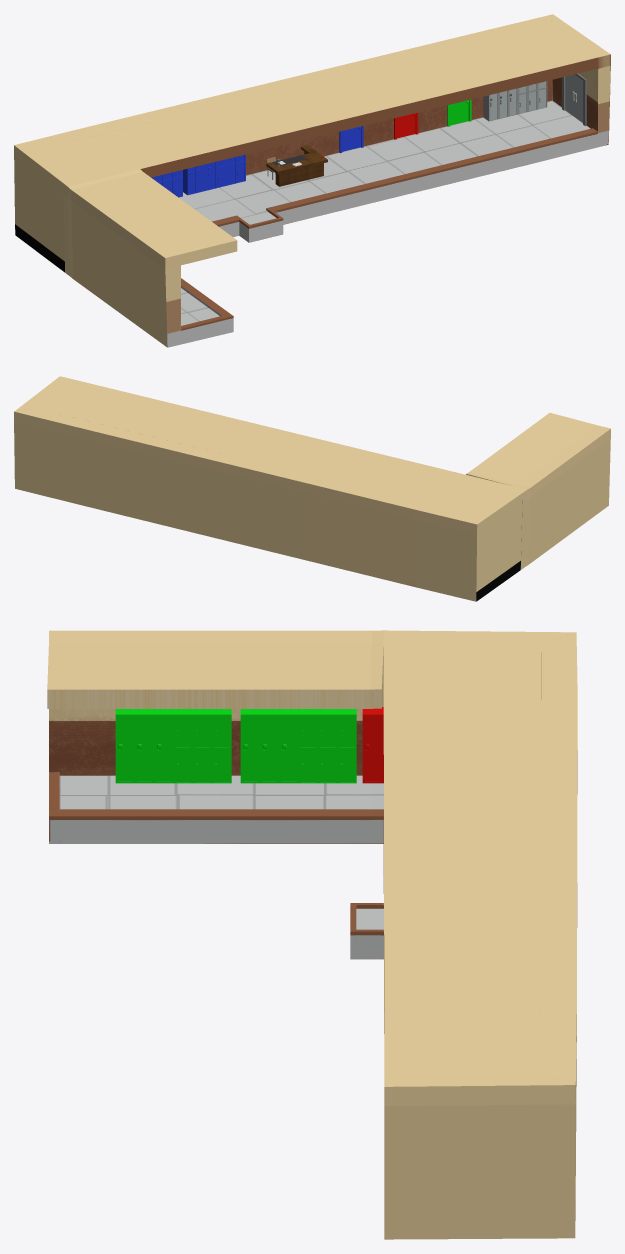
Rendered from Corredor.fbx.
The picture shows the model from 3 angles, top to bottom: view 1: azimuth 30°, elevation 25°; view 2: azimuth 150°, elevation 25°; view 3: azimuth 270°, elevation 25°; orthographic projection. The views are drawn at different scales.
Parts seen in each view (by area): view 1: Corredor, AssetsEscola, AssetsEscola_Azul, AssetsEscola_Verde, AssetsEscola_Vermelho; view 2: Corredor; view 3: Corredor, AssetsEscola_Verde, AssetsEscola_Vermelho.
Part boxes in pixels (x1,y1,x2,y2): Corredor: (14,14,610,347); AssetsEscola: (266,73,586,186); AssetsEscola_Azul: (151,126,363,197); AssetsEscola_Verde: (447,99,471,126); AssetsEscola_Vermelho: (394,112,418,139); Corredor: (14,376,610,601); Corredor: (47,630,577,1239); AssetsEscola_Verde: (115,709,356,783); AssetsEscola_Vermelho: (362,707,383,783).
Bounding box in the file's own units: 2840 × 458 × 1395.
